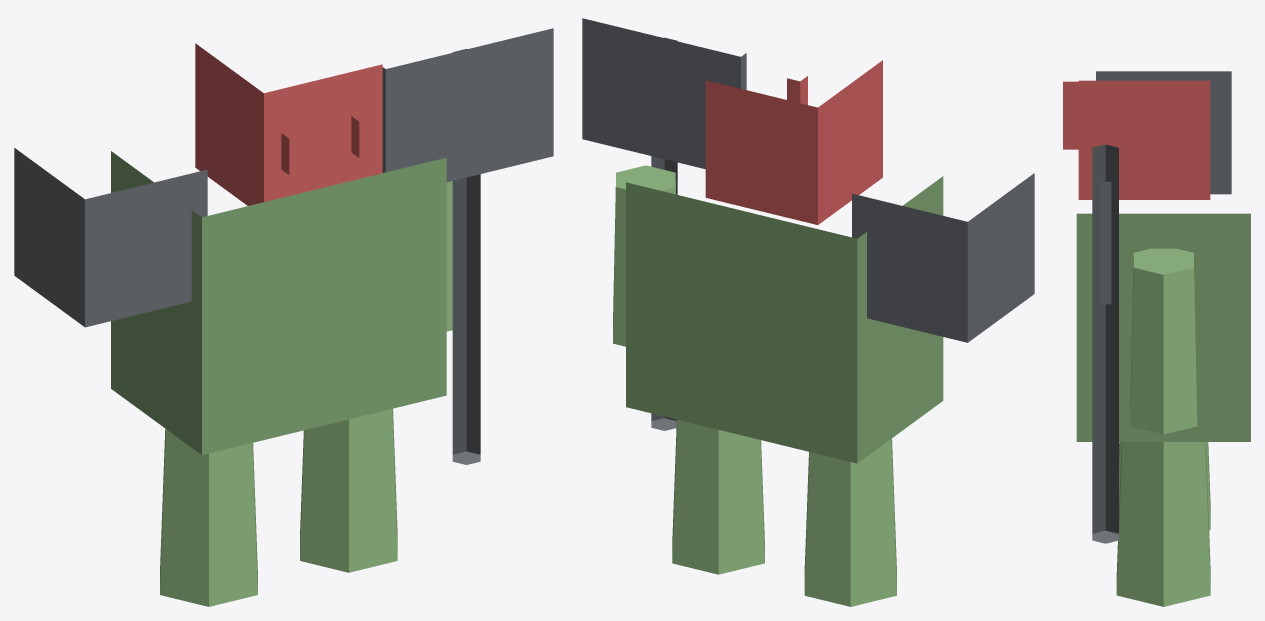
The model's file is enemy_orc.glb.
3 renders of one model, left to right at view 1: azimuth 30°, elevation 25°; view 2: azimuth 150°, elevation 25°; view 3: azimuth 270°, elevation 25°, orthographic. The views are drawn at different scales.
Parts seen in each view (by area): view 1: Torso, Weapon, LeftArm, Head, LeftLeg, RightLeg, RightArm; view 2: Torso, Head, LeftArm, Weapon, LeftLeg, RightLeg, RightArm; view 3: Torso, Head, RightLeg, RightArm, Weapon, LeftArm, LeftLeg.
Boxes of the visible parts, x1,y1,x2,y2 form: Torso: (111,151,446,454); Weapon: (382,28,553,464); LeftArm: (14,148,207,327); Head: (195,43,382,205); LeftLeg: (160,429,257,606); RightLeg: (300,408,397,572); RightArm: (446,181,452,331); Torso: (626,176,943,463); Head: (705,60,882,224); LeftArm: (852,173,1034,342); Weapon: (582,18,746,430); LeftLeg: (804,438,896,606); RightLeg: (672,419,764,574); RightArm: (613,165,675,346); Torso: (1076,213,1250,441); Head: (1063,80,1210,199); RightLeg: (1116,442,1210,606); RightArm: (1130,248,1197,434); Weapon: (1092,144,1118,543); LeftArm: (1096,71,1231,194); LeftLeg: (1119,442,1210,530).
Size of the model in its own units: 1.34 by 1.42 by 0.485.
